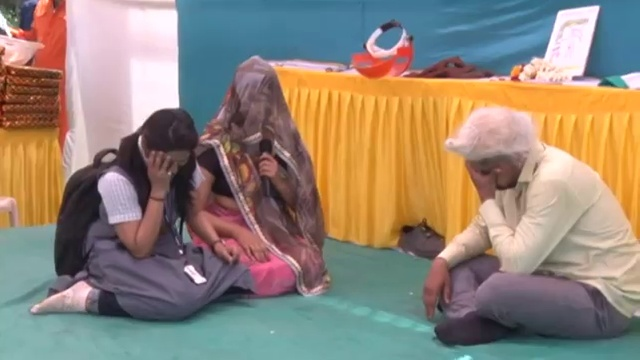helmet: (0, 36, 45, 66)
helmet_off: (452, 108, 539, 203), (129, 103, 197, 169), (228, 63, 282, 136), (33, 0, 65, 24)
person: (414, 96, 640, 336), (27, 109, 241, 312), (191, 55, 326, 288), (28, 0, 65, 101)
